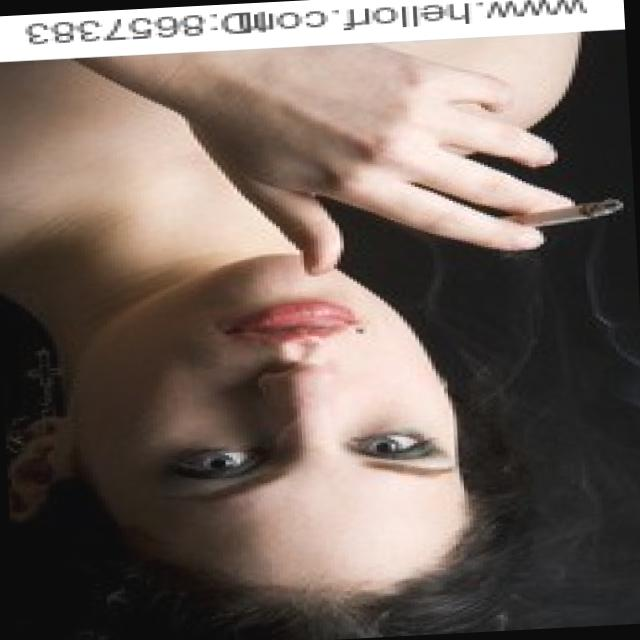cigarette: (486, 198, 623, 231)
